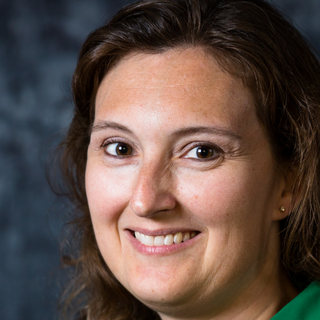eye: (171, 138, 232, 168), (96, 133, 144, 163)
